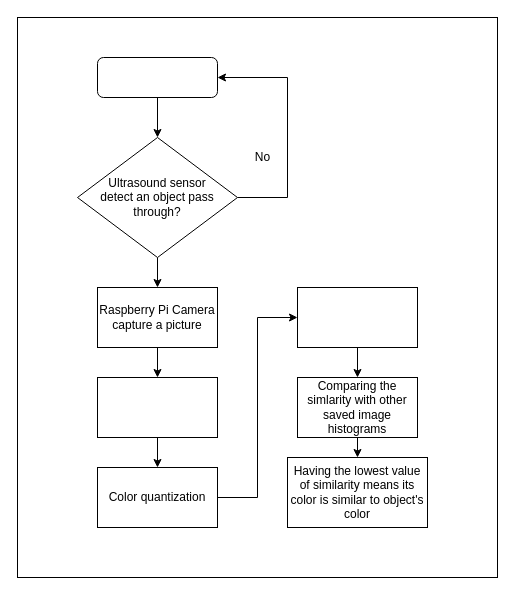
The diagram is 515 pixels wide and 595 high, and some of its shapes have lost their labels. The shapes that lost their labels are listed below. From the top down, each one's centre as x and y in pixels, then its label:
(157,77): Start
(357,317): Get image histogram
(157,407): Image resizing and cropping
